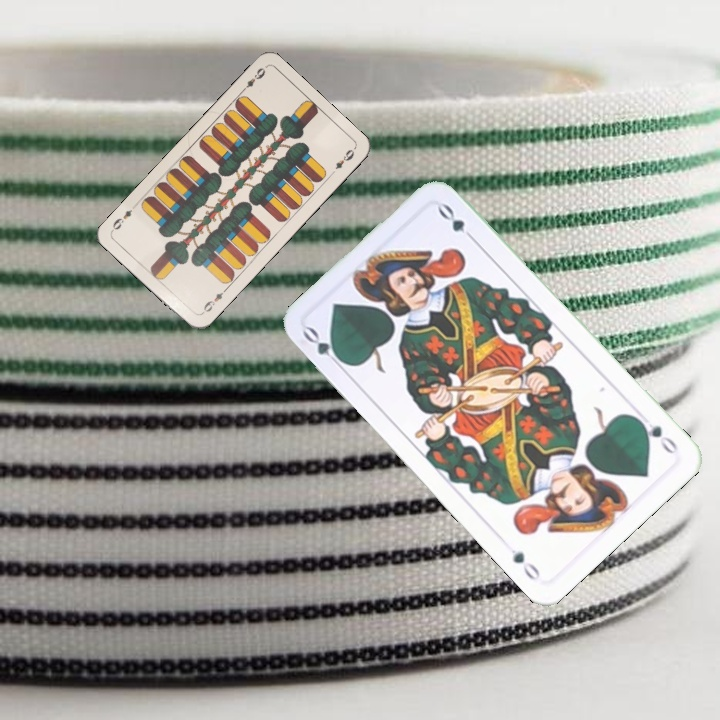E9: (198, 284, 229, 317), (237, 64, 268, 96)
GO: (298, 322, 349, 372), (632, 414, 681, 458)
